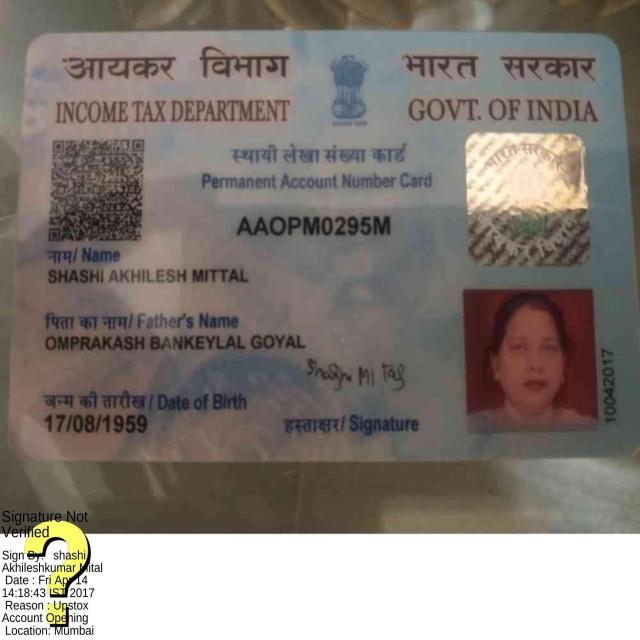pan_card: (22, 40, 638, 456)
